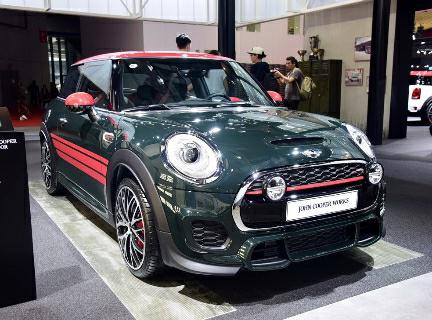MINI-JCW: (30, 51, 403, 289)
